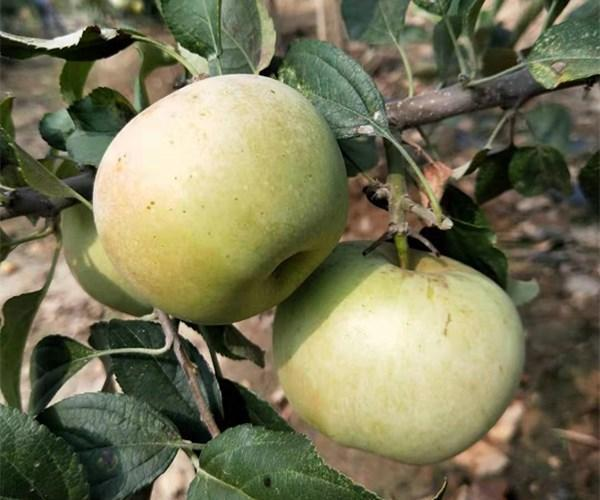apple: (93, 73, 350, 324), (274, 245, 527, 467)
